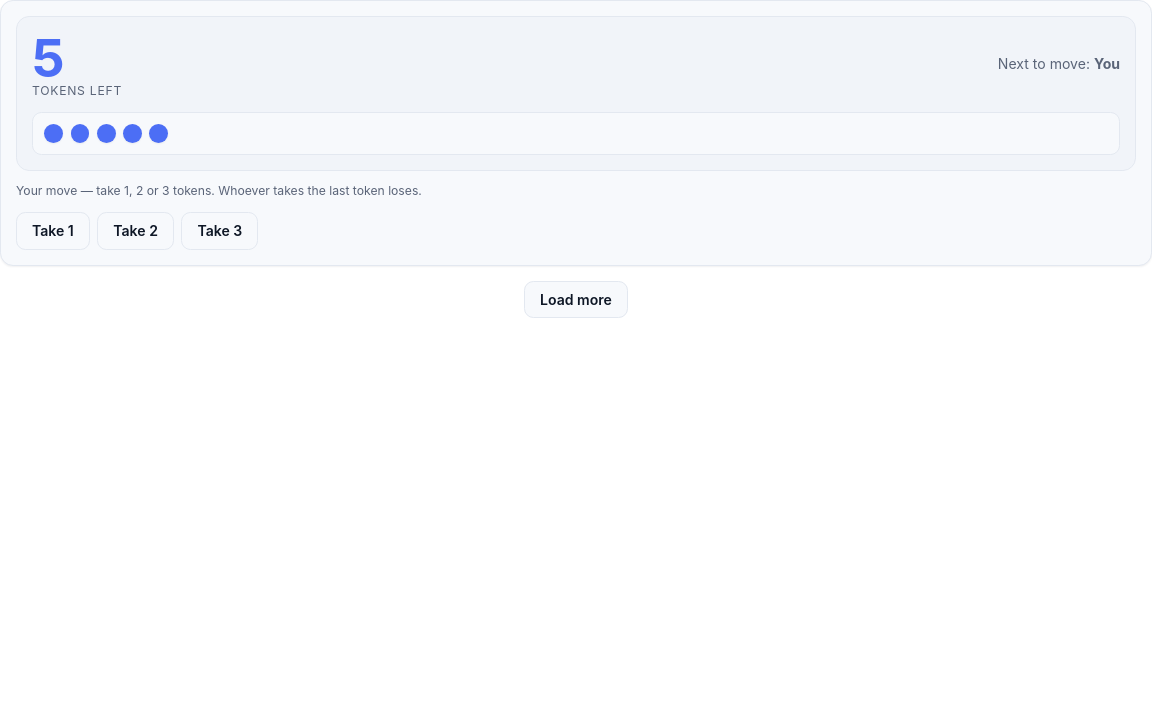
Test: TrainingPackFeed: load more › appends the next batch and excludes already-seen sourceMatchIds
Expected: the number of elements with test id "training-card" is 1, [0, 0, 1151, 266]
Click the button with test id "training-load-more" at (576, 300), box [524, 281, 628, 318]
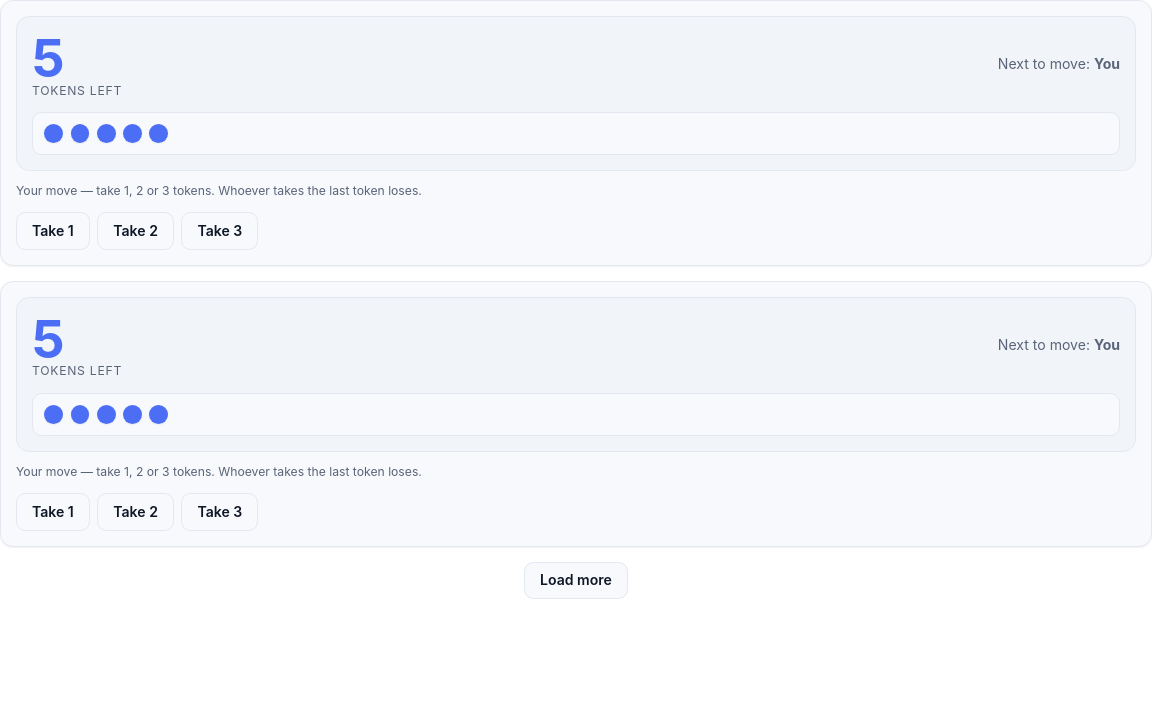
Expected: the number of elements with test id "training-card" is 2, [0, 0, 1151, 266]; [0, 281, 1151, 547]
